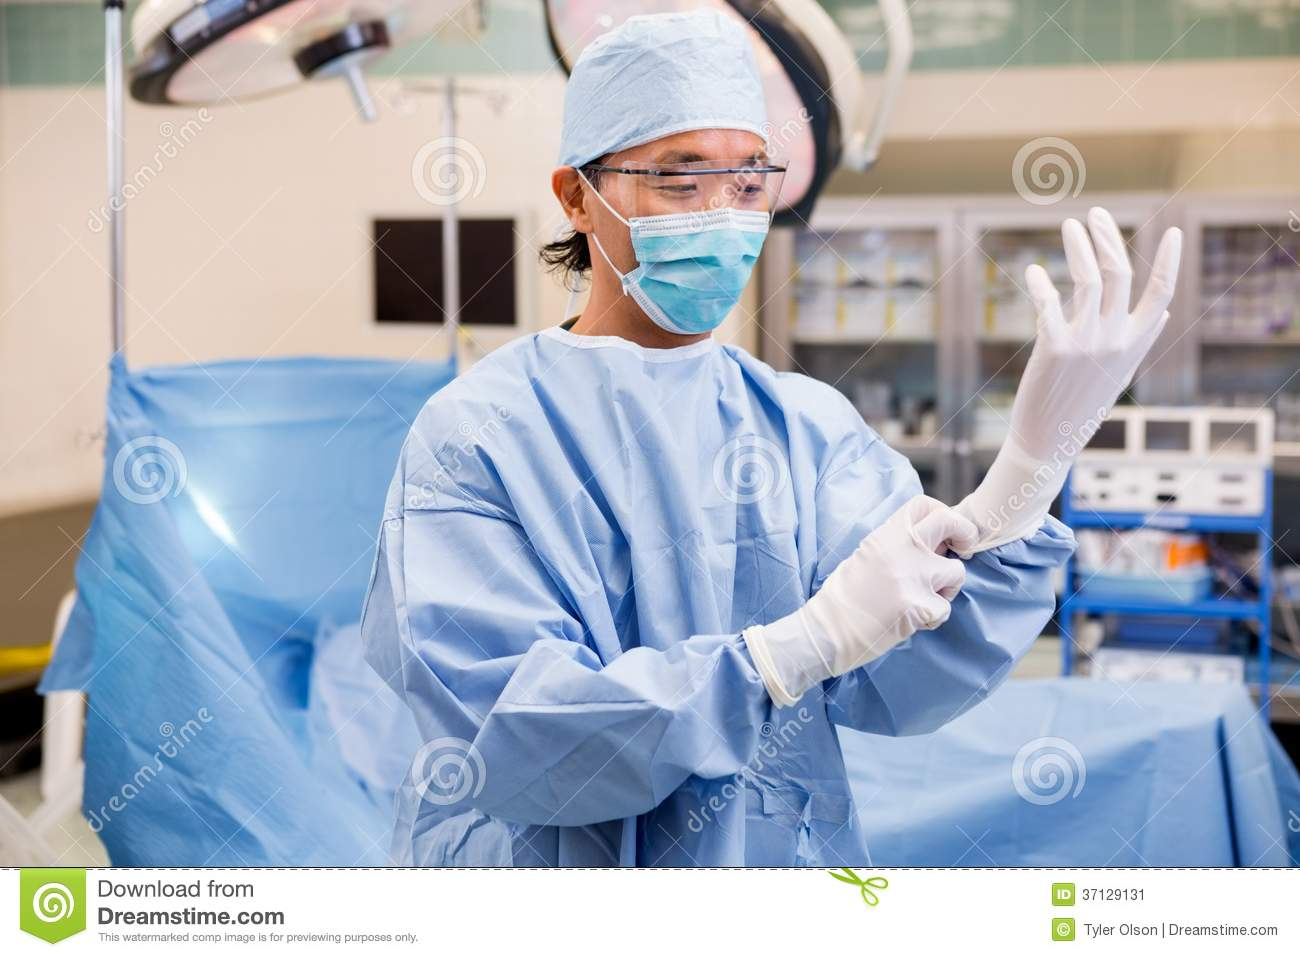mask: (617, 204, 776, 342)
